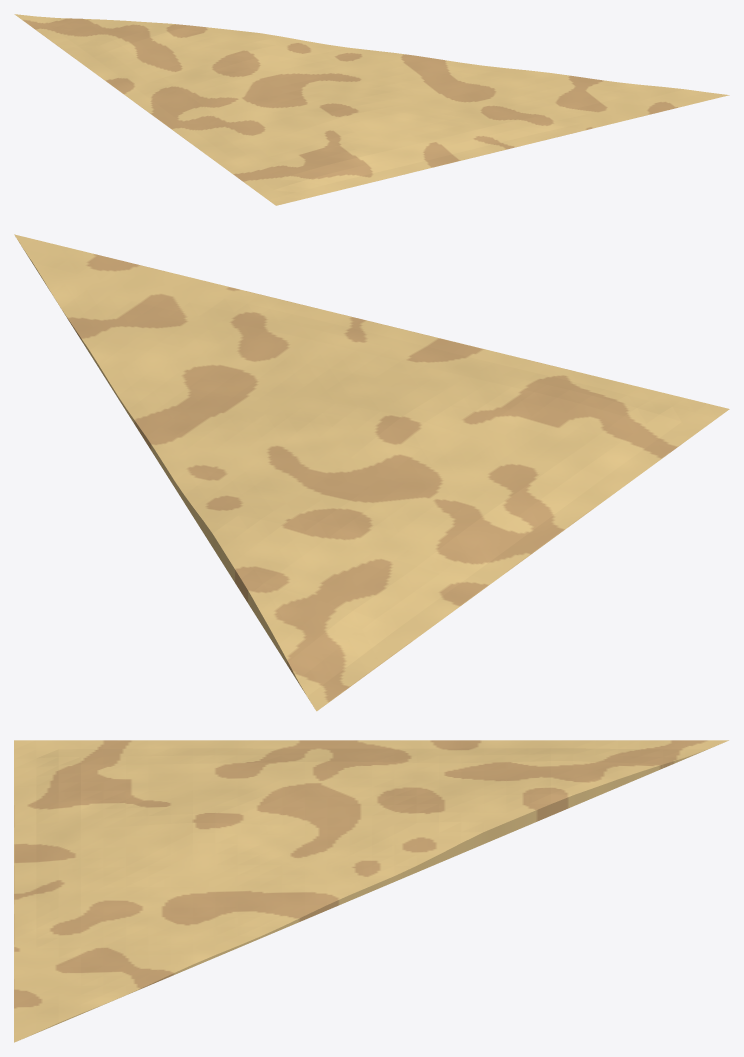
Rendered from Desert_Flat_07_NW.obj.
The picture shows the model from 3 angles, top to bottom: view 1: azimuth 30°, elevation 25°; view 2: azimuth 150°, elevation 25°; view 3: azimuth 270°, elevation 25°; orthographic projection. The views are drawn at different scales.
Bounding box in the file's own units: 10 × 0.2001 × 10.
1 material, 1 textured.
